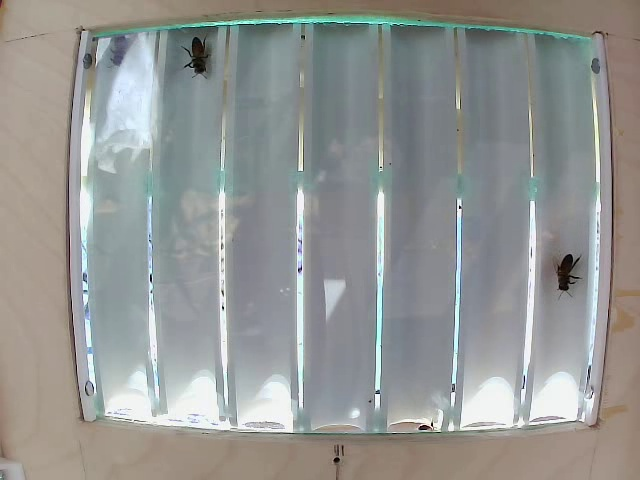bee: (194, 40, 230, 91), (551, 253, 593, 296)
